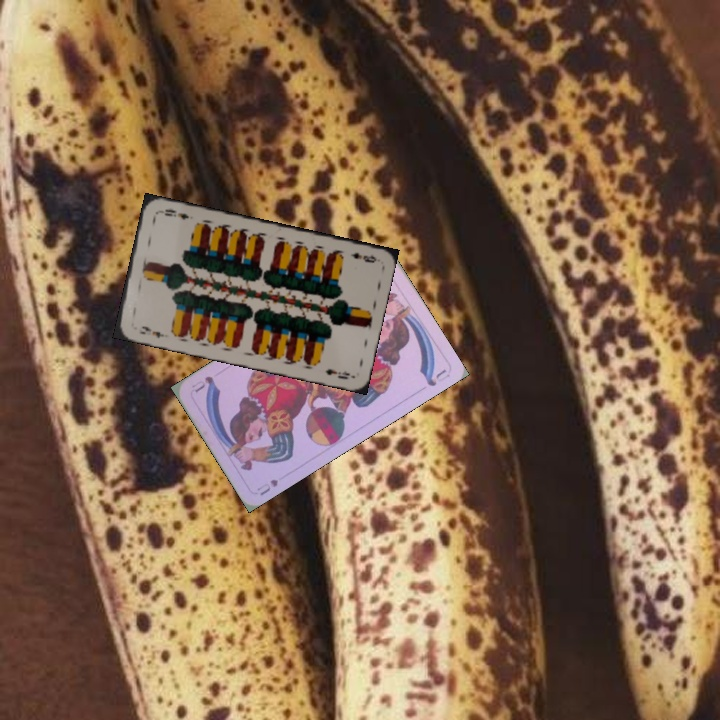E9: (135, 322, 167, 341), (346, 248, 379, 266)
SU: (253, 475, 281, 498)
